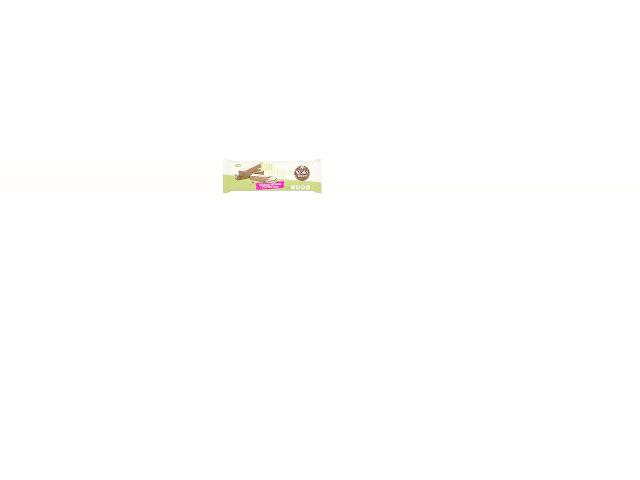chocolate: (220, 156, 321, 197)
